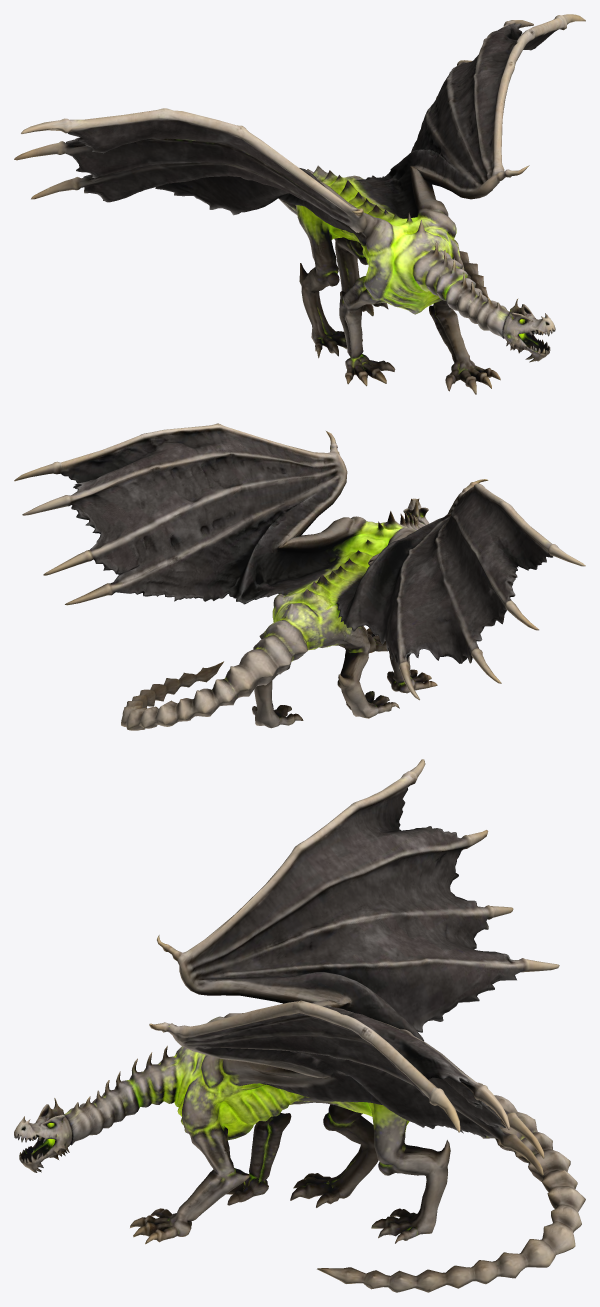
The model's file is MZ4250 - DracolichGreen.glb.
3 views of the same model, one above another, from view 1: azimuth 30°, elevation 25°; view 2: azimuth 150°, elevation 25°; view 3: azimuth 270°, elevation 25° (orthographic). The views are drawn at different scales.
Parts seen in each view (by area): view 1: GreenDracolich.001; view 2: GreenDracolich.001; view 3: GreenDracolich.001.
Boxes of the visible parts, x1=… form: GreenDracolich.001: x1=14, y1=14, x2=585, y2=394; GreenDracolich.001: x1=14, y1=423, x2=585, y2=730; GreenDracolich.001: x1=14, y1=759, x2=585, y2=1292.
Size of the model in its own units: 253 by 111 by 188.
Materials: 1 (1 with a texture image).
